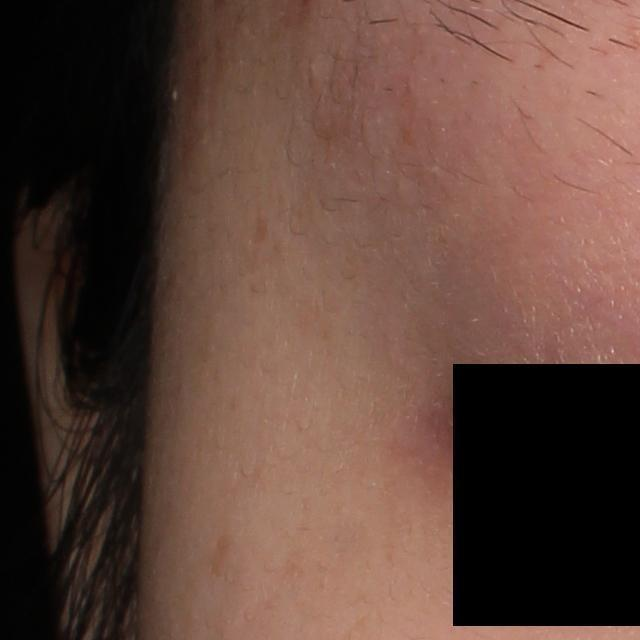melasma: (208, 528, 233, 577)
